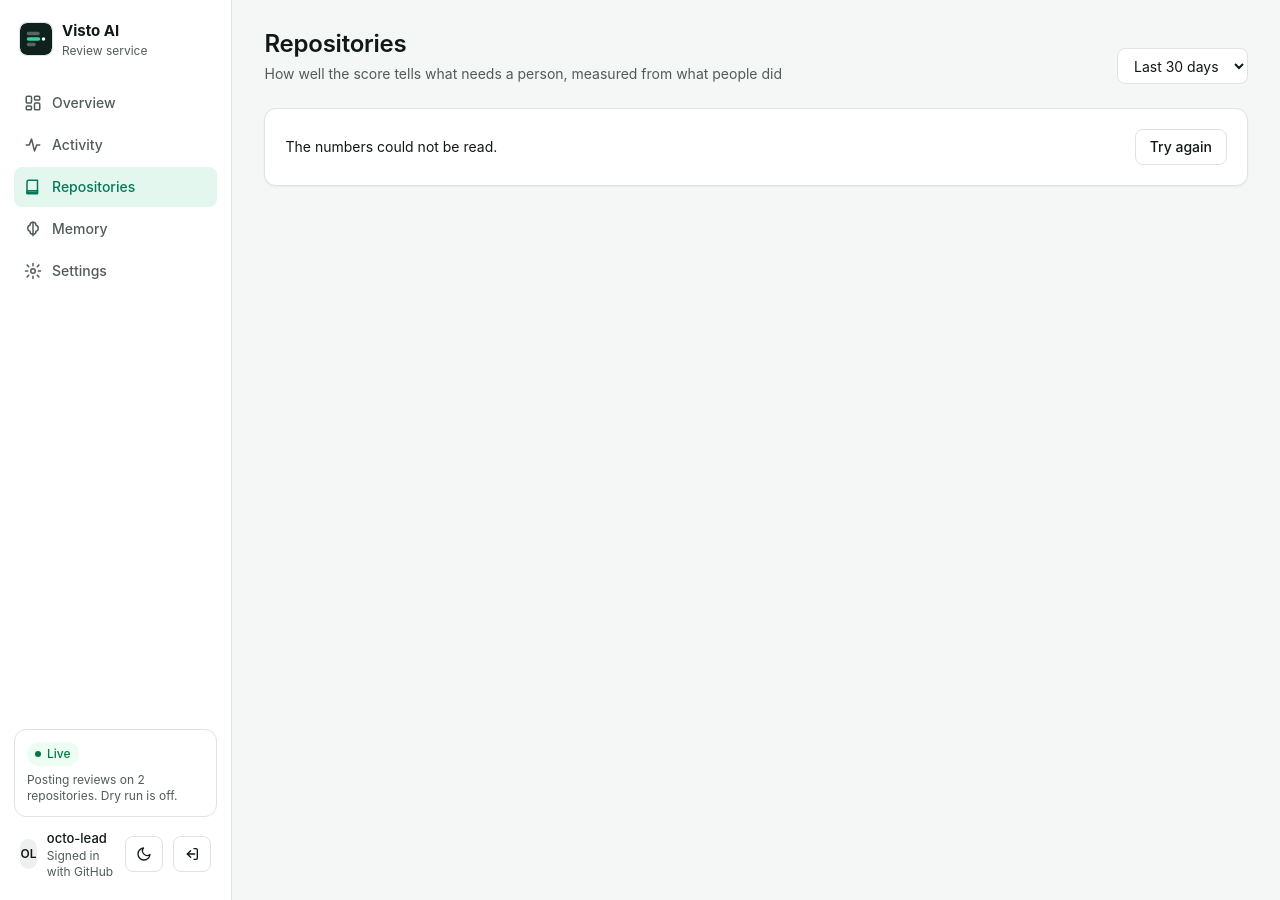
Scenario: a failed list of repositories says so and reads again
Expected: the text "The numbers could not be read." is shown, [286,137,497,157]
Expected: the heading "Repositories" is shown, [264,29,406,58]
Click the button "Try again".
click(1181, 147)  # box [1135,129,1227,165]
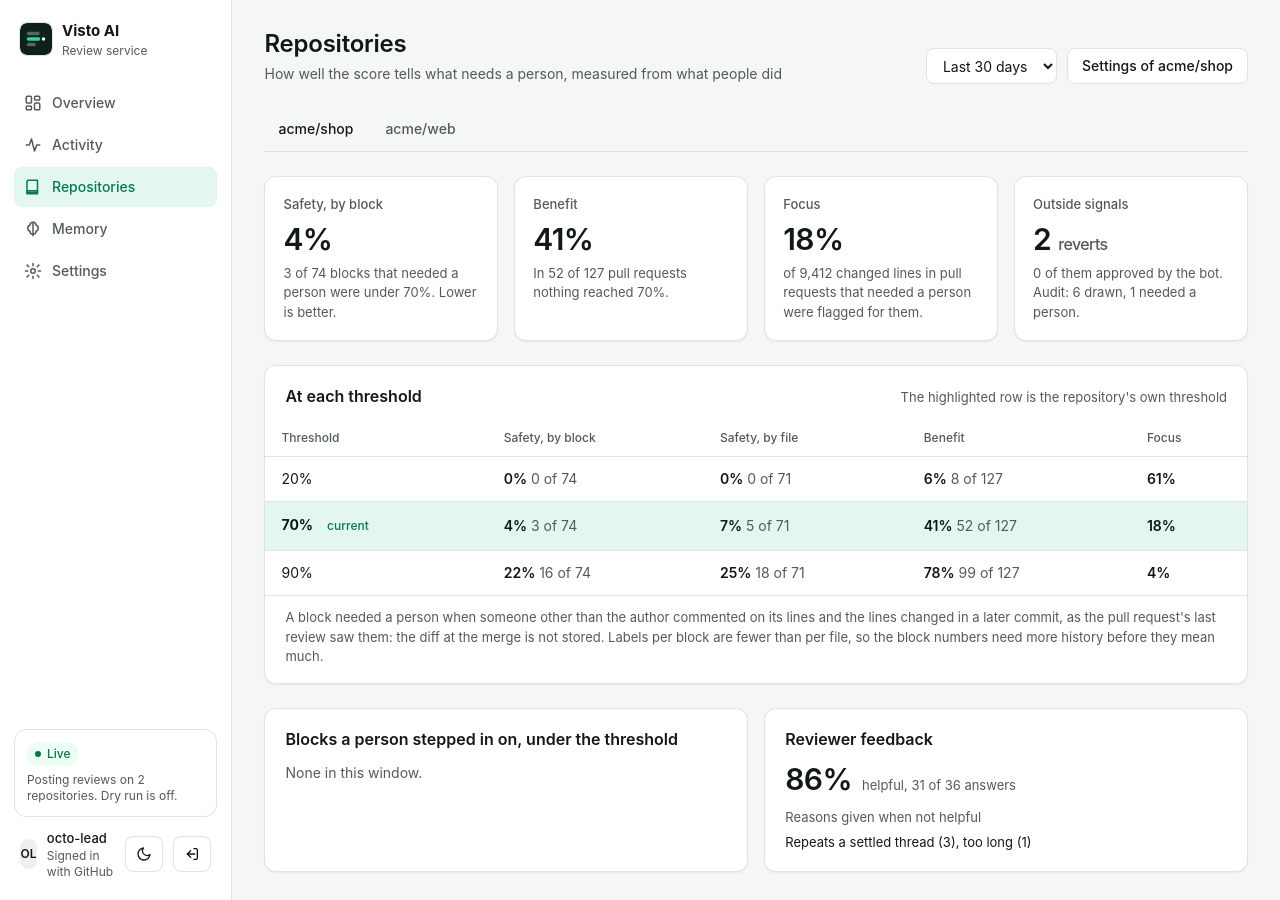
Expected: the text "3 of 74 blocks that needed a person were under 70%. Lower is better." is shown, [284,264,479,322]
